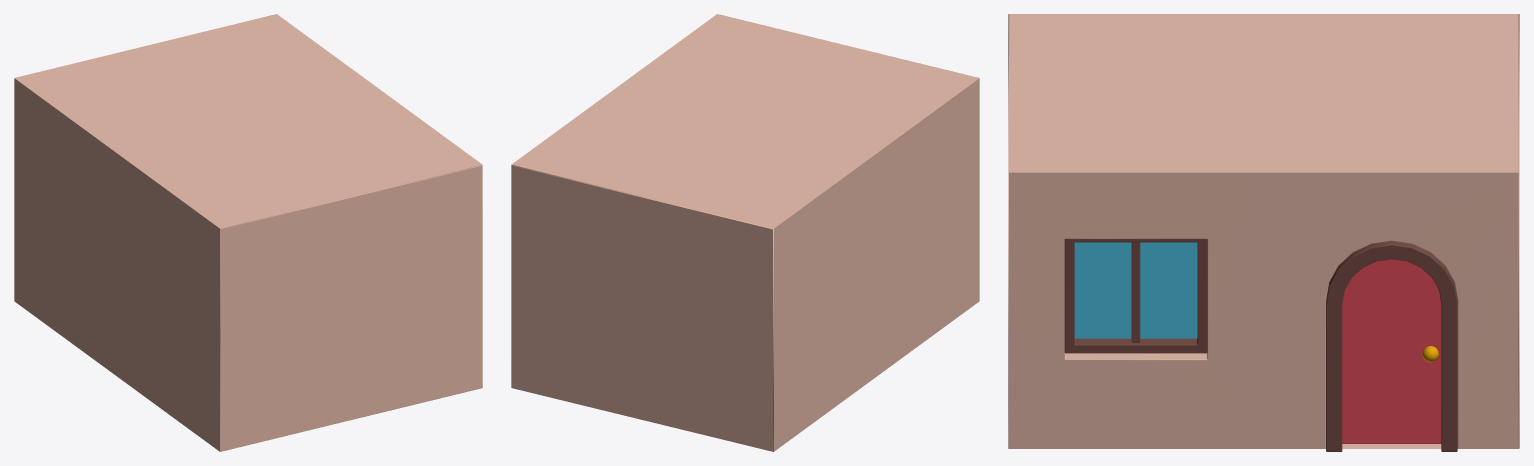
The model's file is houseBase.fbx.
3 views of the same model, side by side, from view 1: azimuth 30°, elevation 25°; view 2: azimuth 150°, elevation 25°; view 3: azimuth 270°, elevation 25° (orthographic). The views are drawn at different scales.
Parts seen in each view (by area): view 1: House.001_Plane.018; view 2: House.001_Plane.018; view 3: House.001_Plane.018, Door.001_Plane.023, Door_Frame.001_Plane.022, Window.001_Plane.013, Plane.002_Plane.017.
Part boxes in pixels (<box>): House.001_Plane.018: <box>14,14,482,451</box>; House.001_Plane.018: <box>511,14,979,451</box>; House.001_Plane.018: <box>1008,14,1519,448</box>; Door.001_Plane.023: <box>1342,259,1441,443</box>; Door_Frame.001_Plane.022: <box>1326,241,1457,451</box>; Window.001_Plane.013: <box>1064,239,1207,353</box>; Plane.002_Plane.017: <box>1131,242,1140,342</box>.
Bounding box in the file's own units: 394 × 314 × 526.
